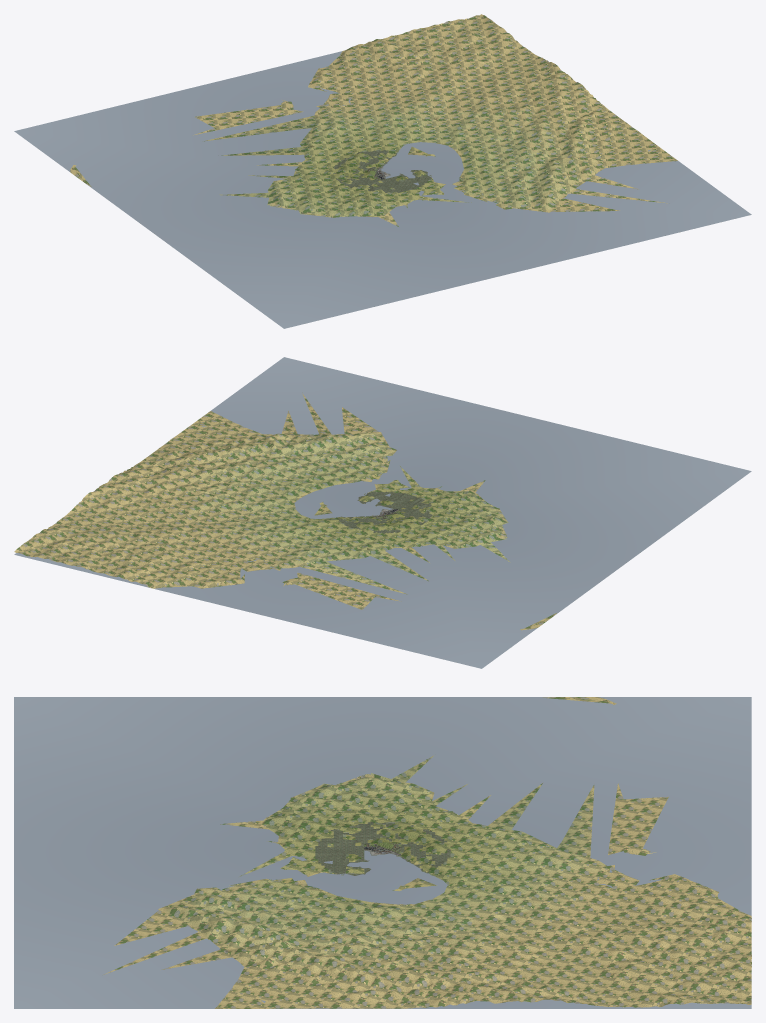
File: sky_backdrop_part1.glb
The picture shows the model from 3 angles, top to bottom: view 1: azimuth 30°, elevation 25°; view 2: azimuth 150°, elevation 25°; view 3: azimuth 270°, elevation 25°; orthographic projection. The views are drawn at different scales.
Parts seen in each view (by area): view 1: bg_far_water, bg_far_terrain, bg_far_suburb; view 2: bg_far_water, bg_far_terrain, bg_far_suburb; view 3: bg_far_water, bg_far_terrain, bg_far_suburb.
Part boxes in pixels (left/top/right/bottom): bg_far_water: left=14, top=51, right=751, bottom=328; bg_far_terrain: left=70, top=14, right=677, bottom=226; bg_far_suburb: left=333, top=150, right=431, bottom=192; bg_far_water: left=14, top=357, right=751, bottom=668; bg_far_terrain: left=14, top=393, right=556, bottom=630; bg_far_suburb: left=336, top=491, right=432, bottom=533; bg_far_water: left=14, top=697, right=751, bottom=1008; bg_far_terrain: left=103, top=697, right=751, bottom=1008; bg_far_suburb: left=315, top=822, right=450, bottom=875.
Size of the model in its own units: 60005 by 886 by 60014.
Materials: 29 (21 with a texture image).
